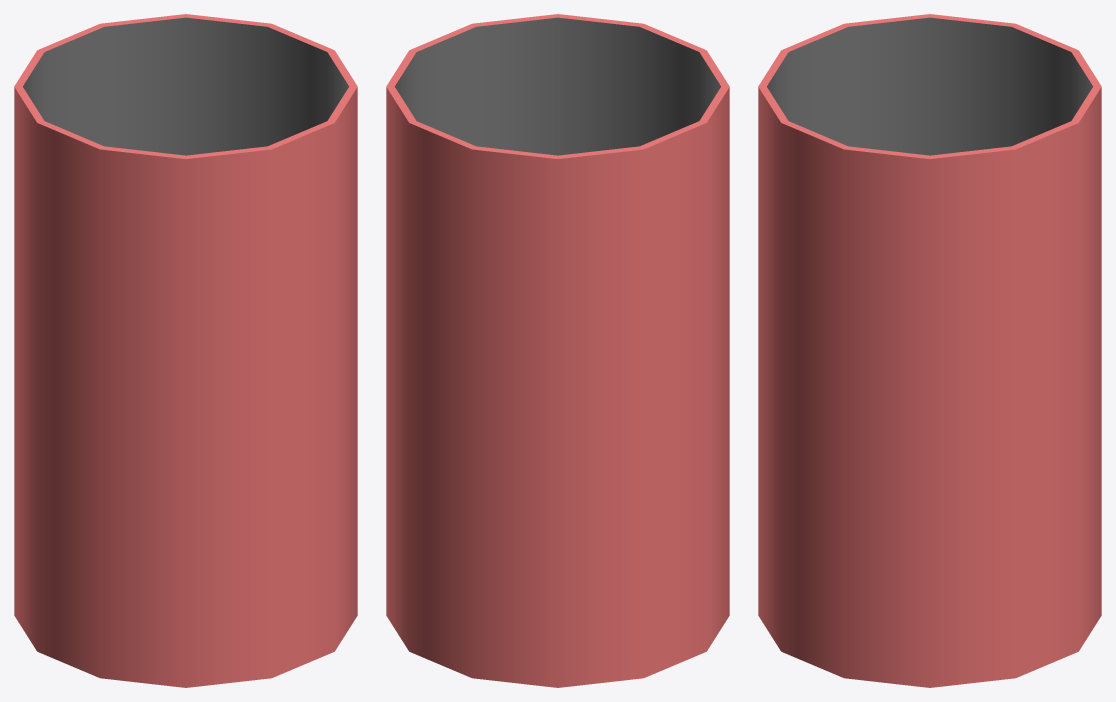
File: rollopapeldef.fbx
3 views of the same model, side by side, from view 1: azimuth 30°, elevation 25°; view 2: azimuth 150°, elevation 25°; view 3: azimuth 270°, elevation 25° (orthographic).
Parts seen in each view (by area): view 1: Cylinder001; view 2: Cylinder001; view 3: Cylinder001.
Part boxes in pixels (bbox=[...]): Cylinder001: bbox=[14, 14, 357, 687]; Cylinder001: bbox=[386, 14, 729, 687]; Cylinder001: bbox=[758, 14, 1101, 687].
Bounding box in the file's own units: 38.23 × 38.23 × 64.92.
